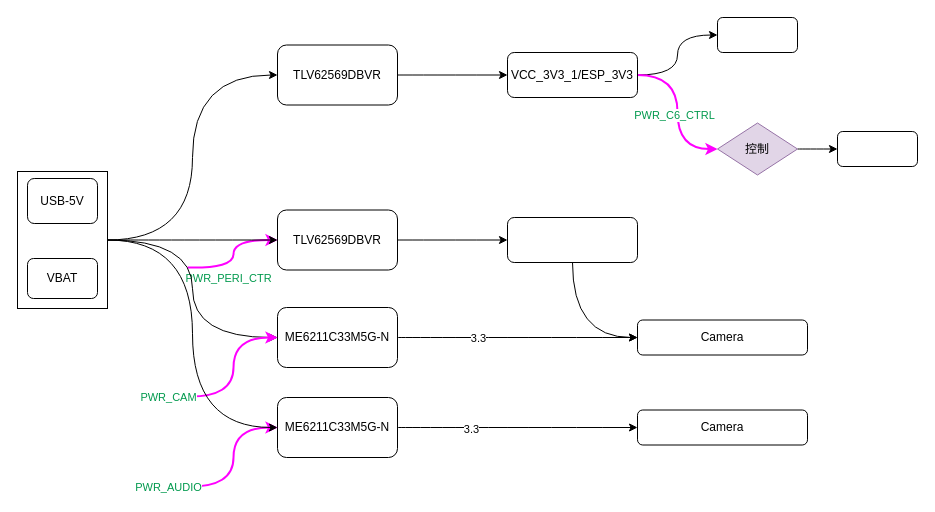
Image size: 935x512. Some labels were removed from this diagram. The centre of each missing label's shape, as x and y in pixels:
ESP32C6: point (877, 148)
ESP32P4: point (757, 34)
VCC_3V3_PERI: point (572, 239)
